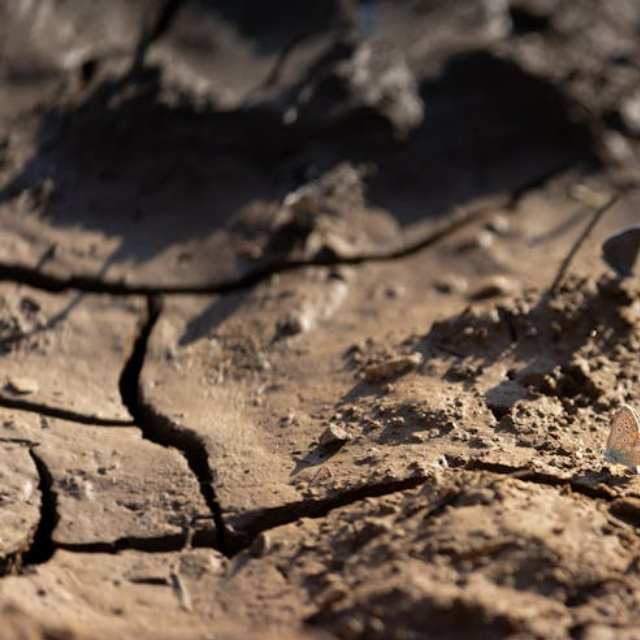深大裂缝: (76, 280, 261, 568), (0, 221, 498, 314)
细微裂纹: (274, 446, 640, 547)
